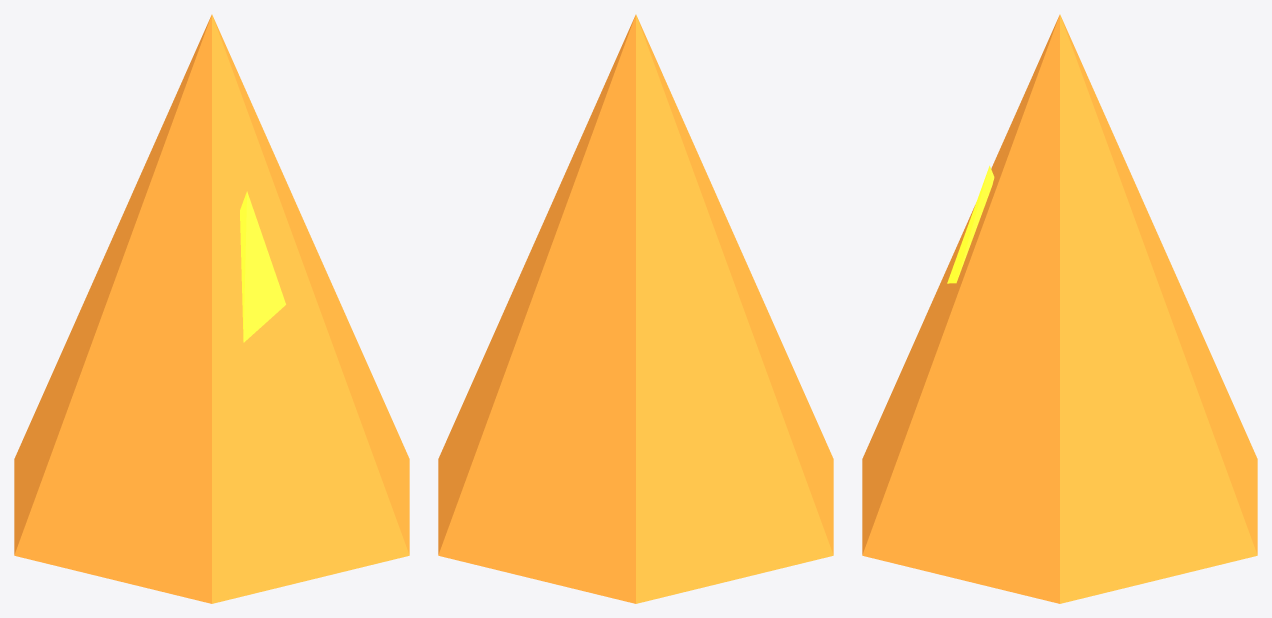
The model's file is flame.glb.
3 renders of one model, left to right at view 1: azimuth 30°, elevation 25°; view 2: azimuth 150°, elevation 25°; view 3: azimuth 270°, elevation 25°, orthographic.
Parts seen in each view (by area): view 1: Flame; view 2: Flame; view 3: Flame.
Boxes of the visible parts, x1,y1,x2,y2 form: Flame: (14, 14, 409, 603); Flame: (438, 14, 833, 603); Flame: (862, 14, 1257, 603).
Bounding box in the file's own units: 0.52 × 0.62 × 0.4503.
